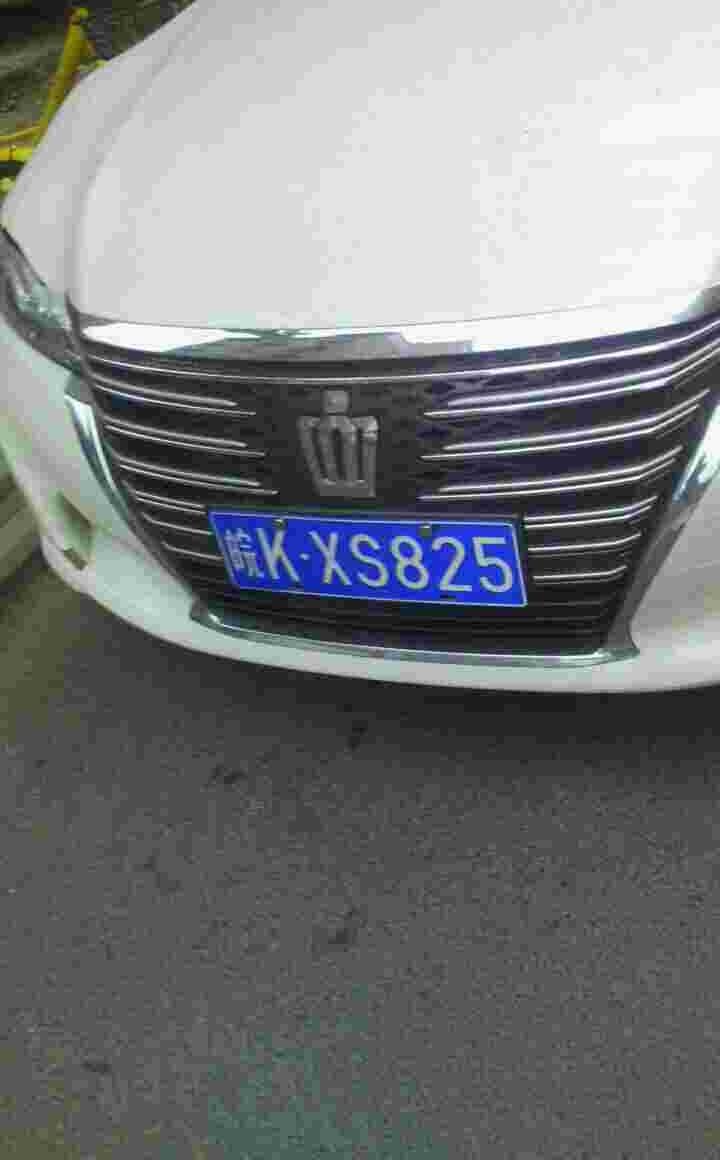license_plate: (208, 505, 522, 615)
